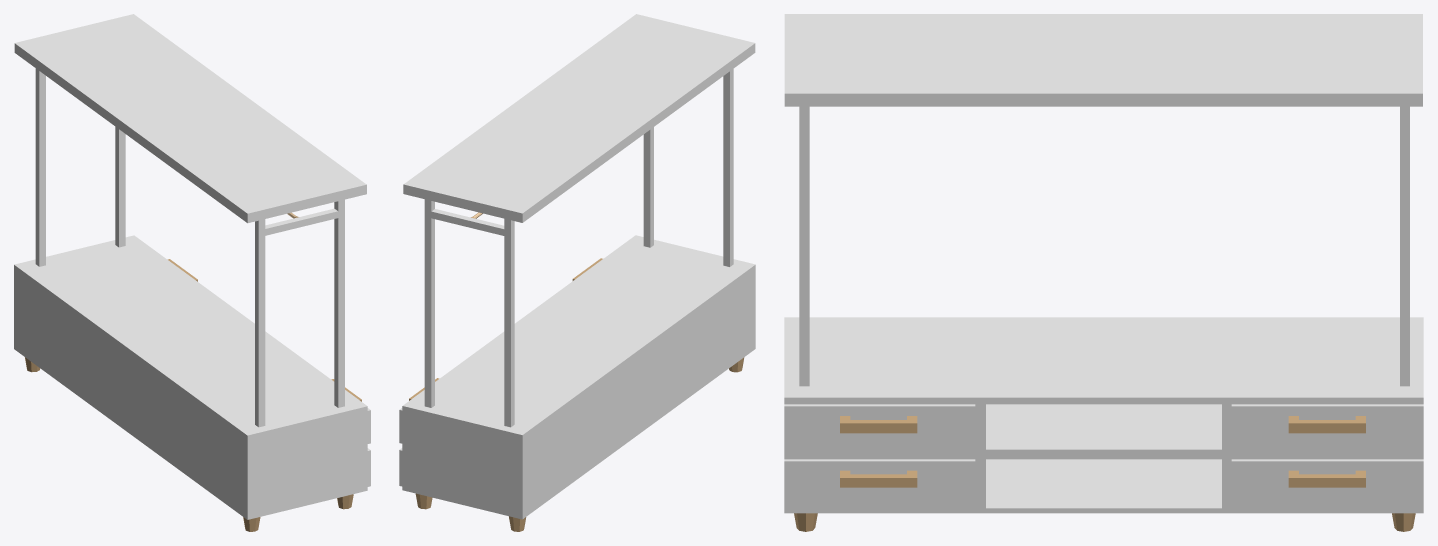
File: Wardrobe.fbx
3 renders of one model, left to right at view 1: azimuth 30°, elevation 25°; view 2: azimuth 150°, elevation 25°; view 3: azimuth 270°, elevation 25°, orthographic. The views are drawn at different scales.
Visible parts, largest first — view 1: pasted__polySurface9; view 2: pasted__polySurface9; view 3: pasted__polySurface9.
Part boxes in pixels (left/top/right/bottom): pasted__polySurface9: left=14, top=14, right=370, bottom=531; pasted__polySurface9: left=399, top=14, right=755, bottom=531; pasted__polySurface9: left=784, top=14, right=1423, bottom=531.
Size of the model in its own units: 2.9 by 6.68 by 8.72.
1 material, 1 textured.
